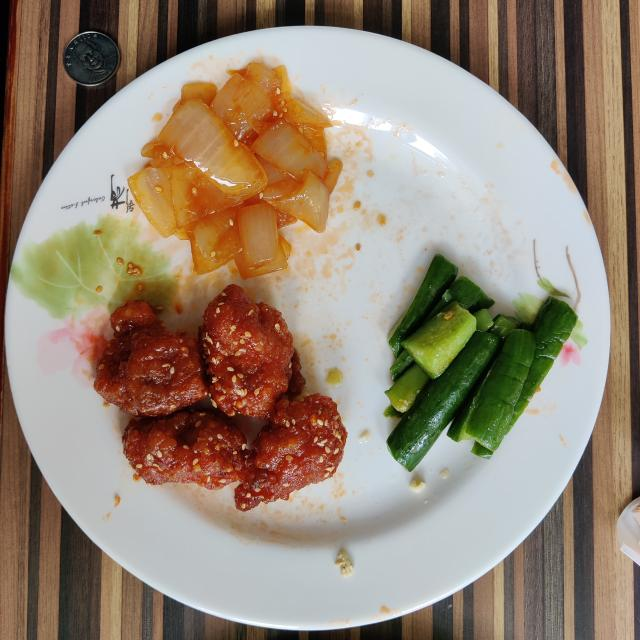coin: (62, 31, 120, 88)
cucumber: (385, 255, 578, 470)
